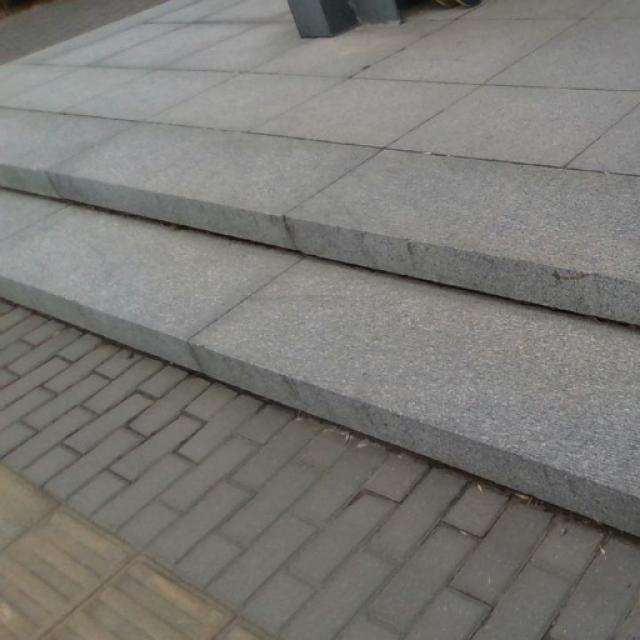Stairs: (0, 0, 639, 577)
